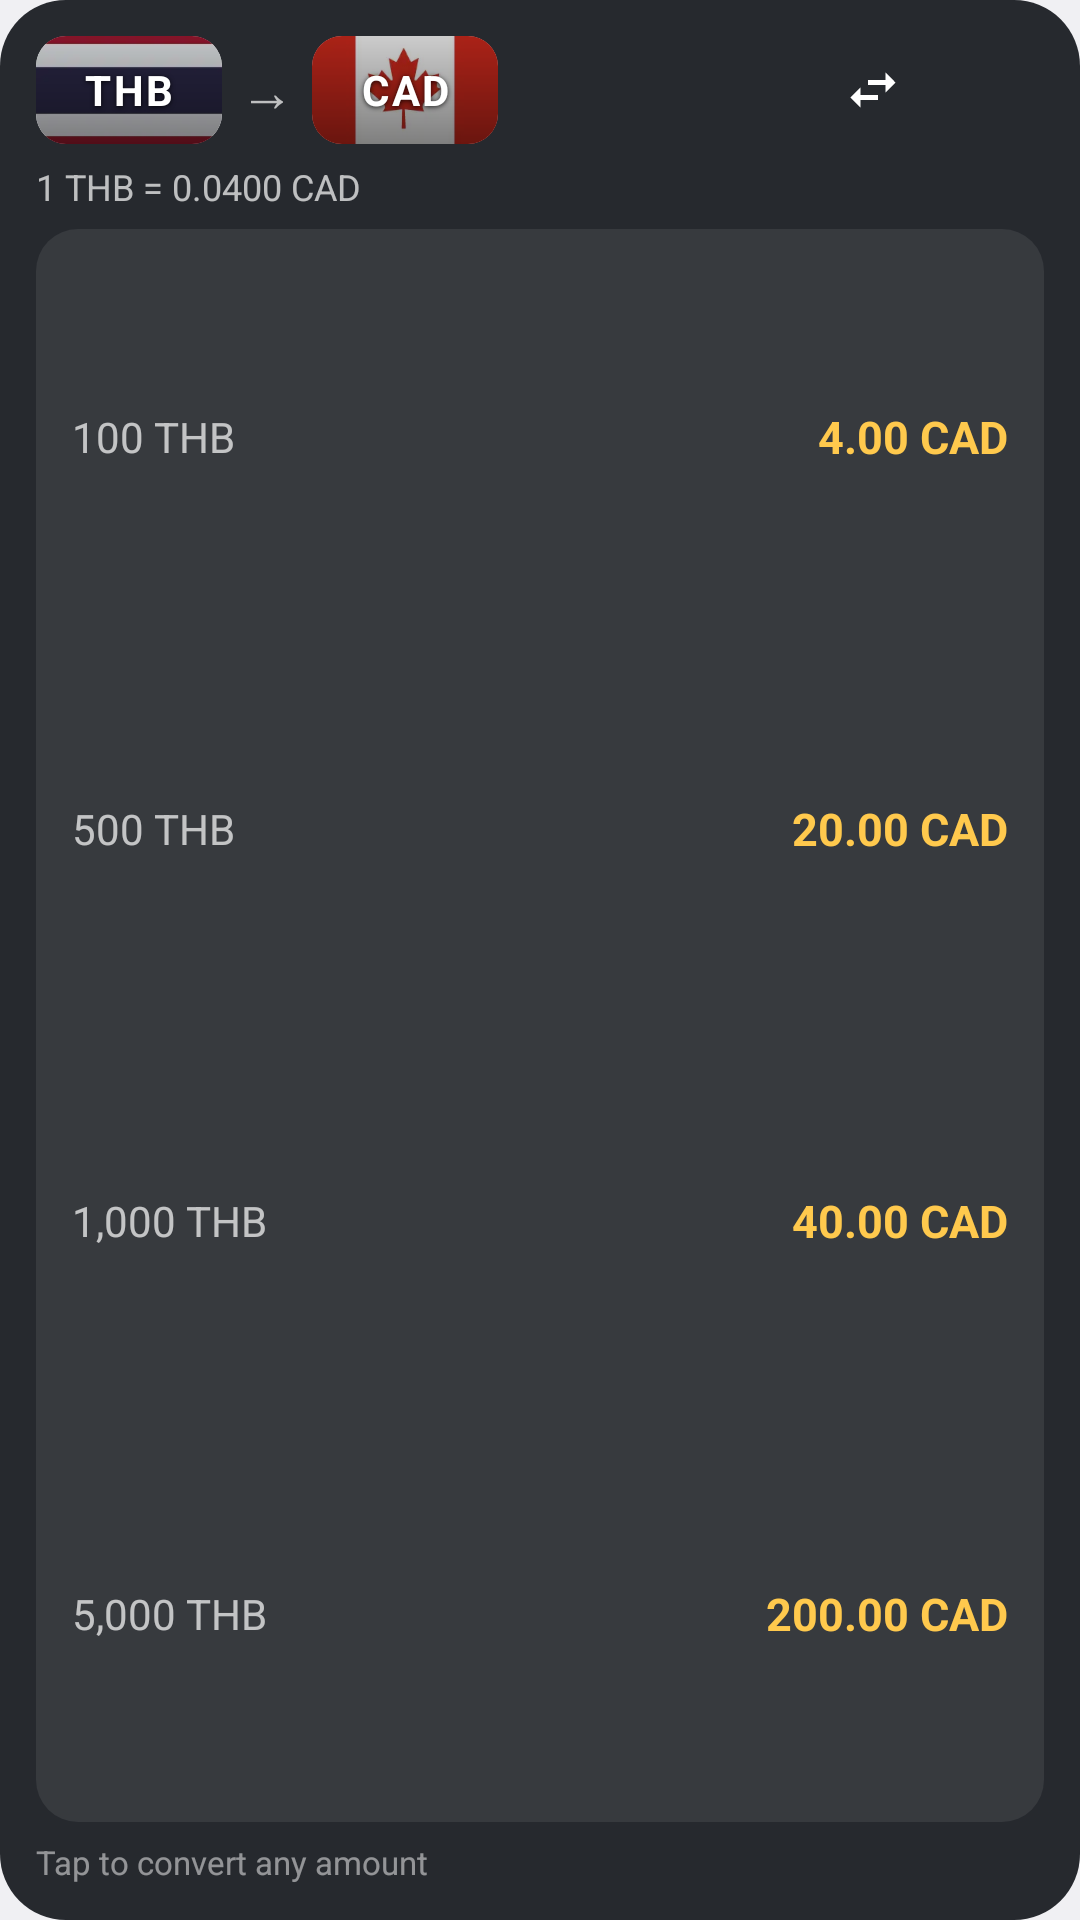

Locate icon controls on the screen. Image size 1080*1920, boxes as (x1, y1, x2, y2).
Swap currencies: (850, 72, 896, 108)
